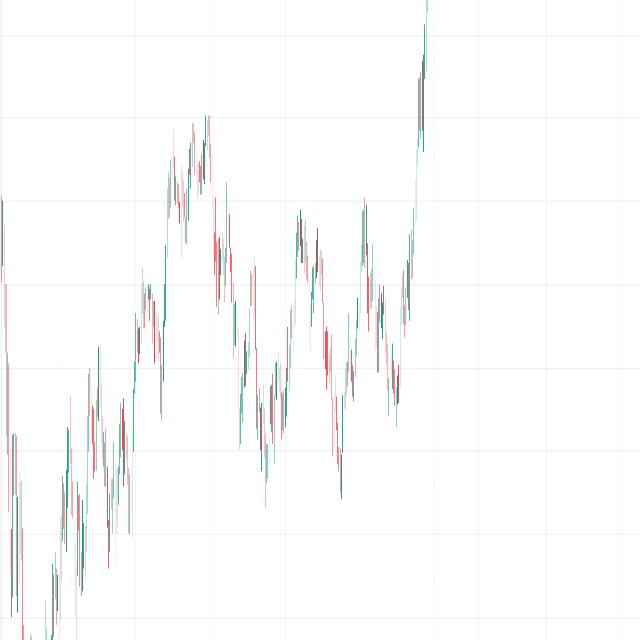Triple-Bottom: (248, 191, 409, 515)
Triple-Top: (159, 87, 219, 234)
